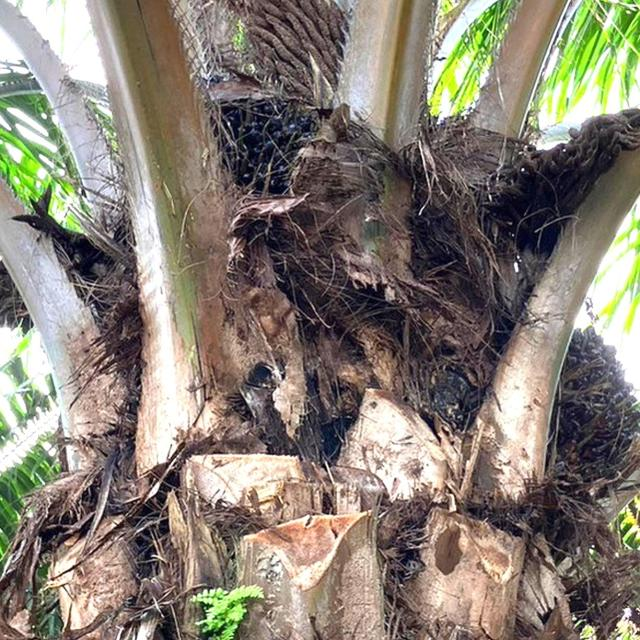unripe: (180, 84, 338, 248)
